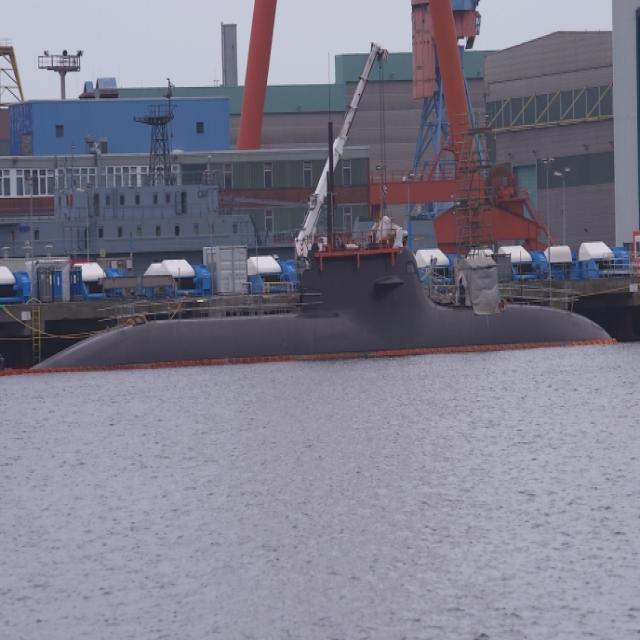submarine: (1, 247, 620, 381)
